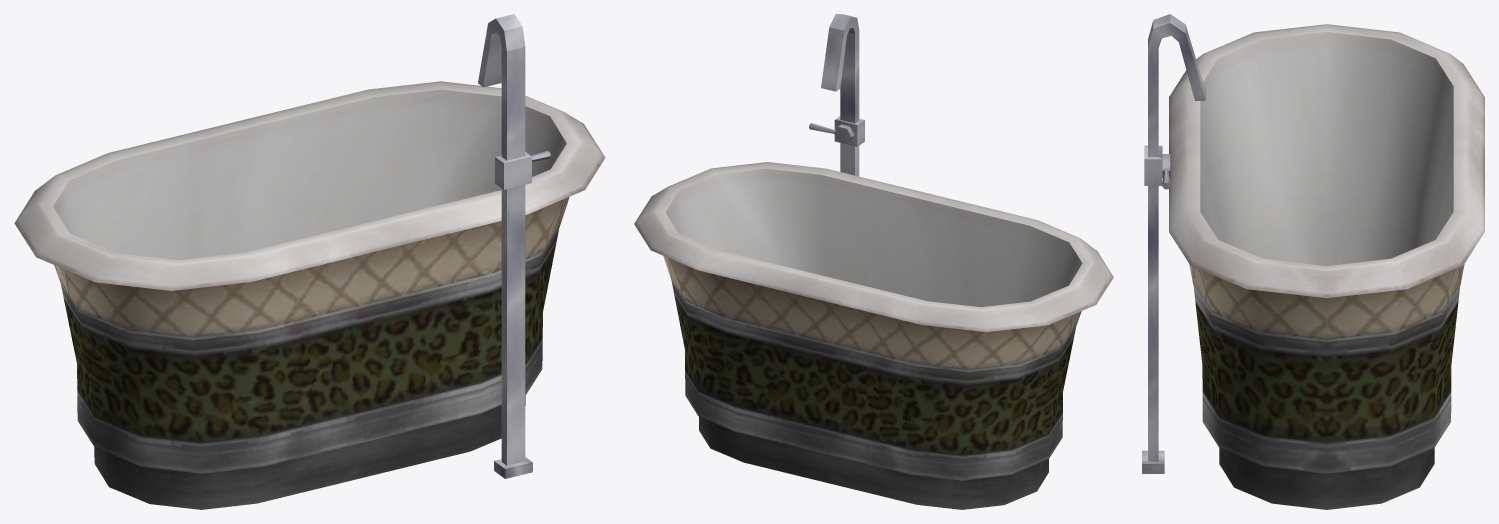
The model's file is furni_0200083_01.FBX.
3 views of the same model, side by side, from view 1: azimuth 30°, elevation 25°; view 2: azimuth 150°, elevation 25°; view 3: azimuth 270°, elevation 25° (orthographic). The views are drawn at different scales.
Parts seen in each view (by area): view 1: furni_0200083_01; view 2: furni_0200083_01; view 3: furni_0200083_01.
Part boxes in pixels (x1,y1,x2,y2): furni_0200083_01: (14, 14, 605, 509); furni_0200083_01: (634, 14, 1113, 509); furni_0200083_01: (1142, 14, 1484, 509).
Size of the model in its own units: 169 by 133 by 91.82.
1 material, 1 textured.
